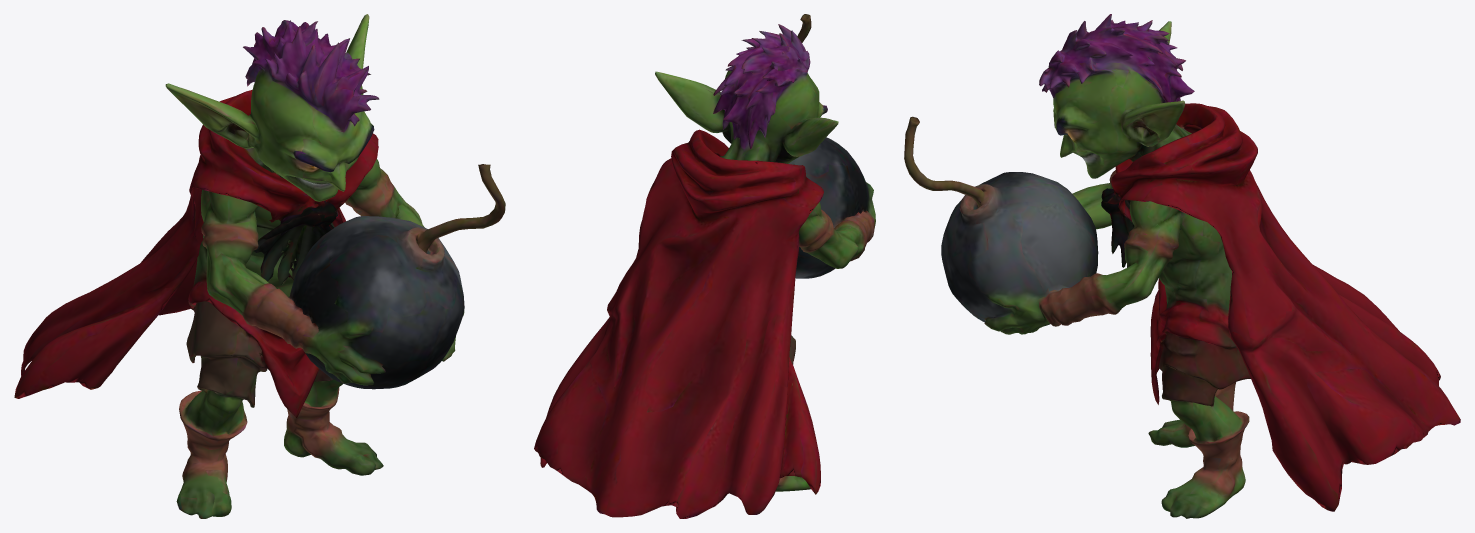
File: grunk_tiny_bomber.glb
3 renders of one model, left to right at view 1: azimuth 30°, elevation 25°; view 2: azimuth 150°, elevation 25°; view 3: azimuth 270°, elevation 25°, orthographic. The views are drawn at different scales.
Size of the model in its own units: 0.5967 by 0.8538 by 0.9517.
1 material, 1 textured.
